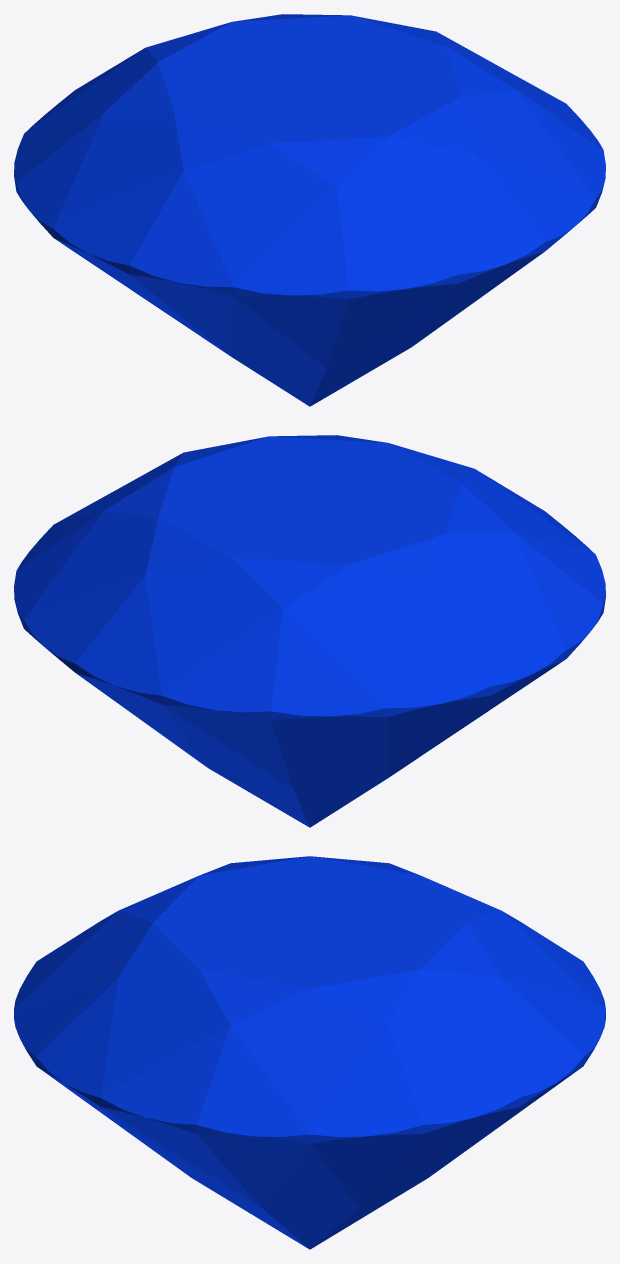
Rendered from asset.glb.
3 renders of one model, top to bottom at view 1: azimuth 30°, elevation 25°; view 2: azimuth 150°, elevation 25°; view 3: azimuth 270°, elevation 25°, orthographic.
Parts seen in each view (by area): view 1: dobj; view 2: dobj; view 3: dobj.
Part boxes in pixels (x1,y1,x2,y2): dobj: (14,14,605,406); dobj: (14,435,605,827); dobj: (14,856,605,1249).
Size of the model in its own units: 2 by 1.22 by 2.
